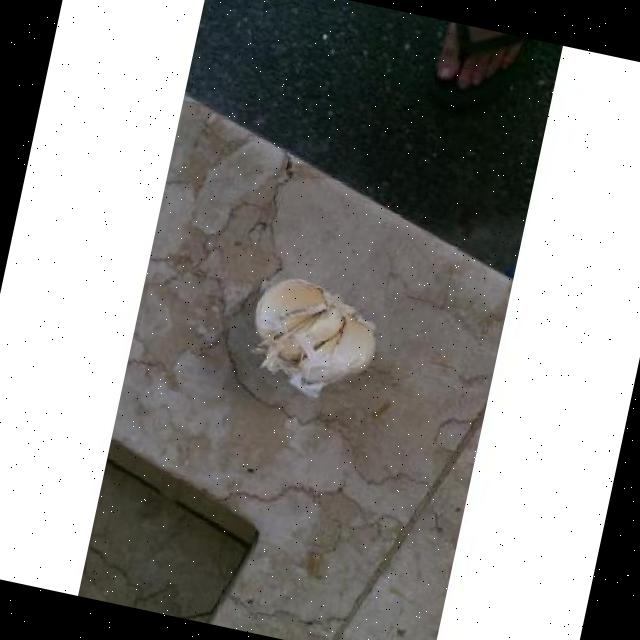garlic: (254, 278, 375, 396)
